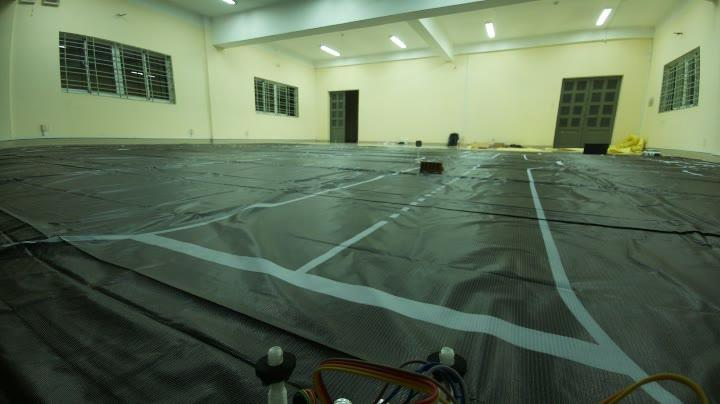roadblock: (417, 160, 446, 176)
